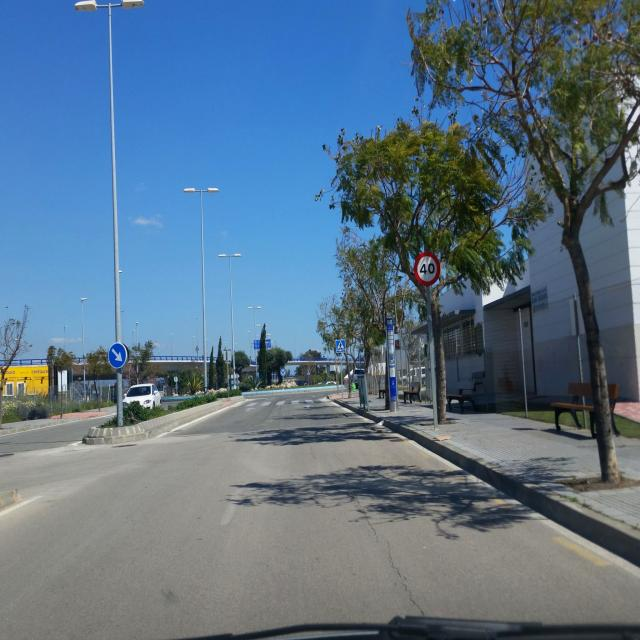car: (122, 382, 164, 408)
